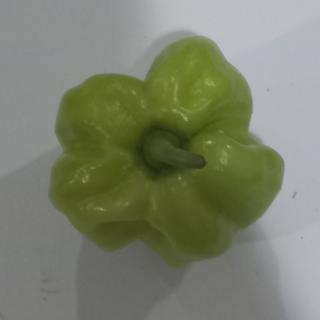Grade-B: (39, 26, 293, 270)
